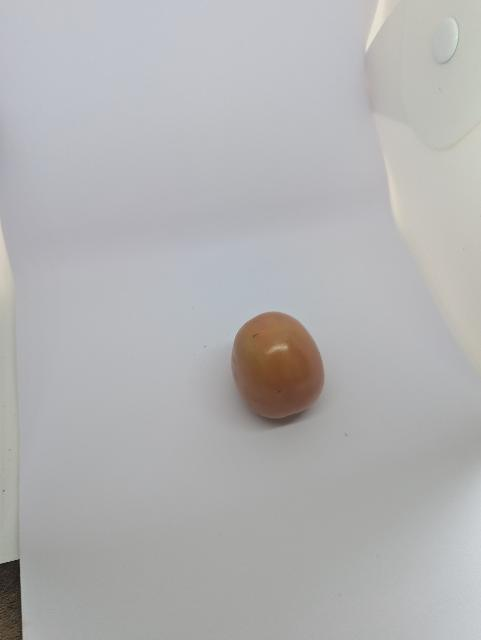turning: (225, 305, 332, 427)
